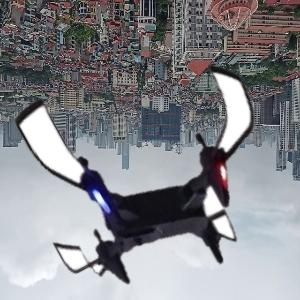drone: (25, 42, 282, 299)
